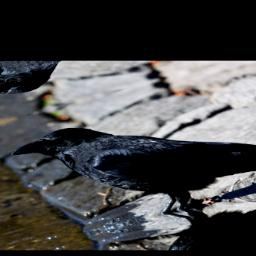Crow: (0, 80, 256, 238)
